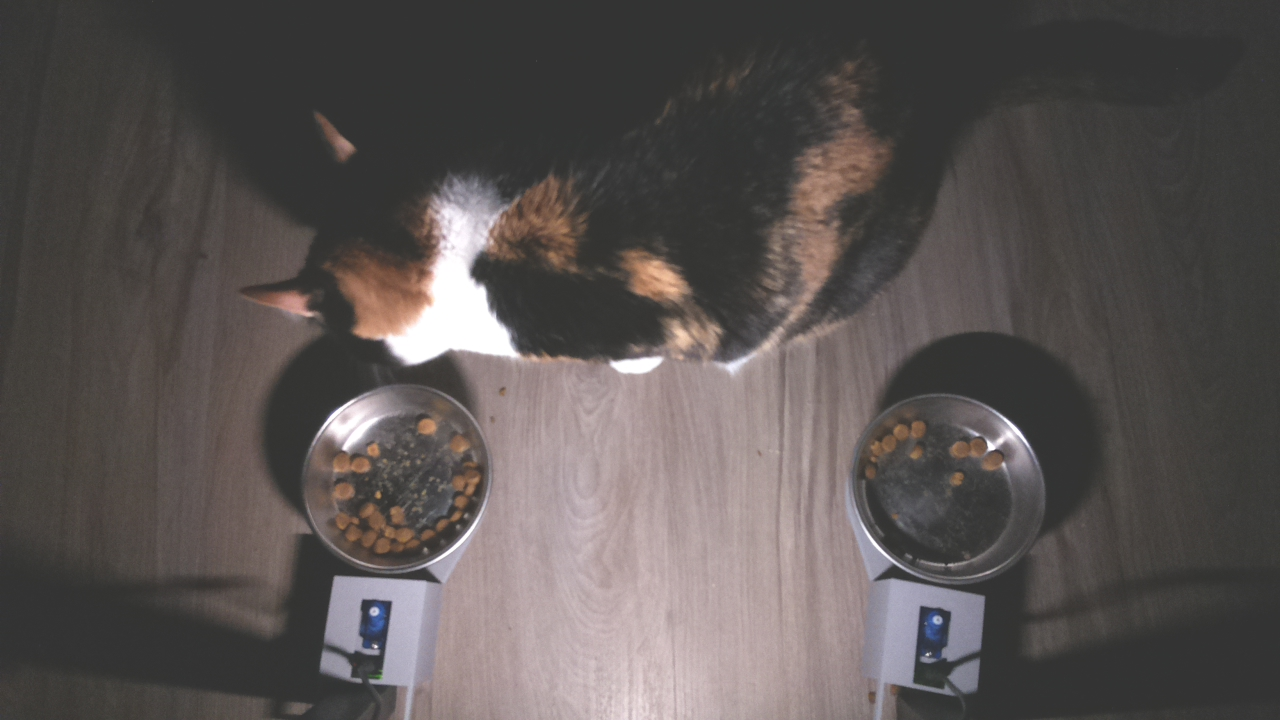bella: (232, 100, 484, 371)
open_bowl: (837, 387, 1049, 597), (301, 375, 499, 578)
